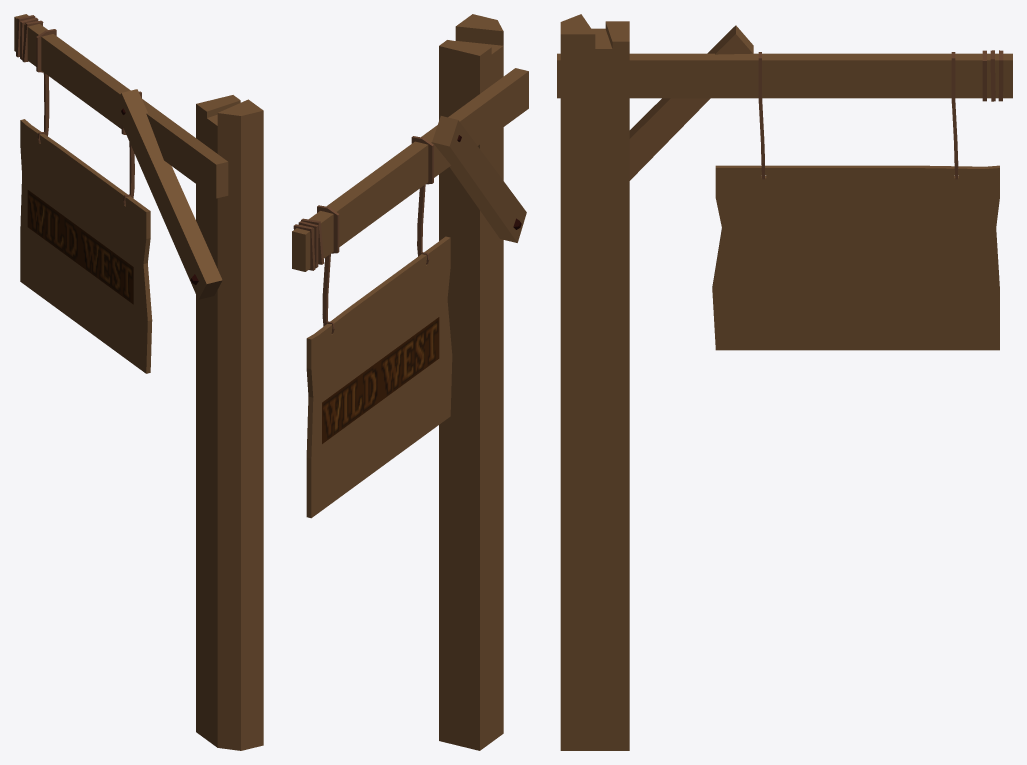
The model's file is sign.dae.
3 renders of one model, left to right at view 1: azimuth 30°, elevation 25°; view 2: azimuth 150°, elevation 25°; view 3: azimuth 270°, elevation 25°, orthographic. The views are drawn at different scales.
Parts seen in each view (by area): view 1: PostSIgn; view 2: PostSIgn; view 3: PostSIgn.
Boxes of the visible parts, bbox=[...] form: PostSIgn: bbox=[14, 14, 263, 750]; PostSIgn: bbox=[292, 14, 528, 750]; PostSIgn: bbox=[557, 14, 1012, 750].
Bounding box in the file's own units: 0.2872 × 1.54 × 2.67.
